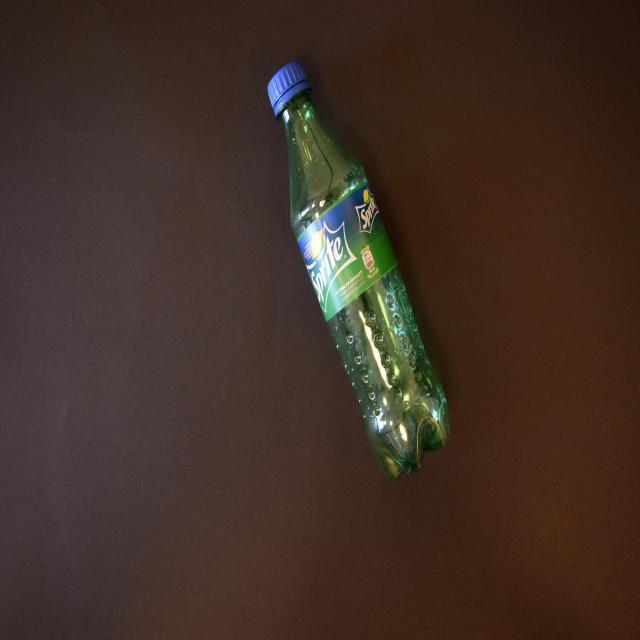plastic_bottle: (266, 60, 451, 485)
